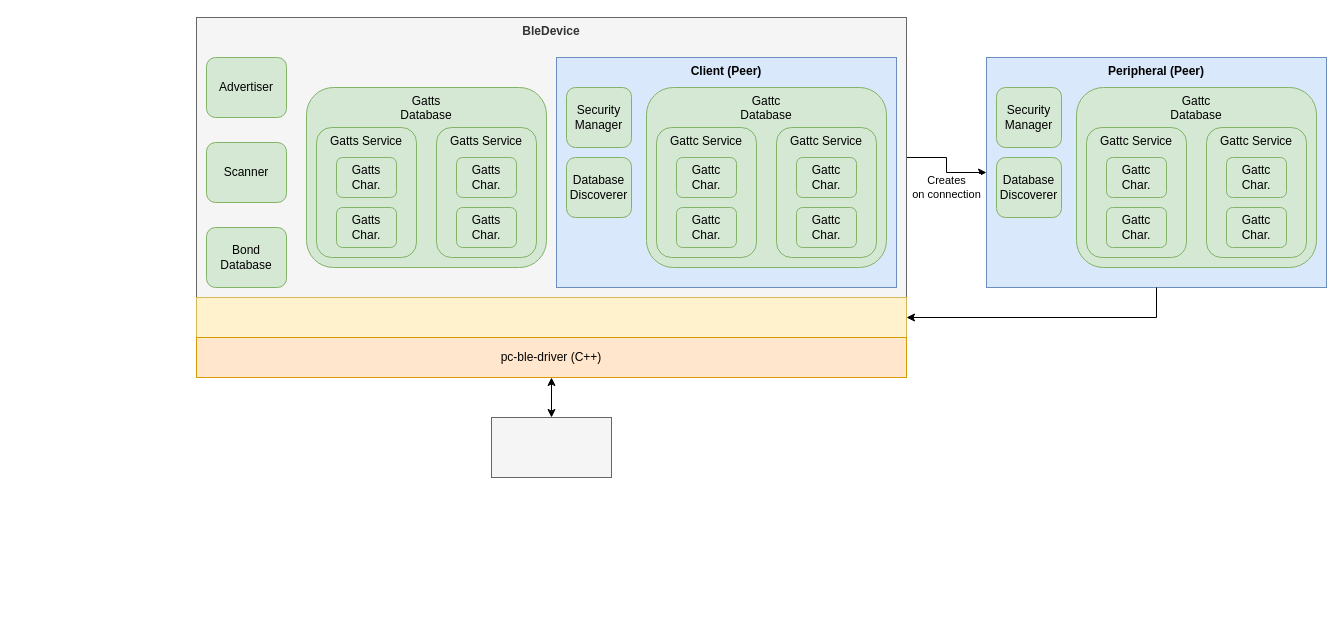
This 1344x640 diagram has some shape labels left out. Here are the shapes that lost their labels. From the top down, the centre of each, then its label:
(551,317): Nrf Driver
(551,447): nRF Hardware
